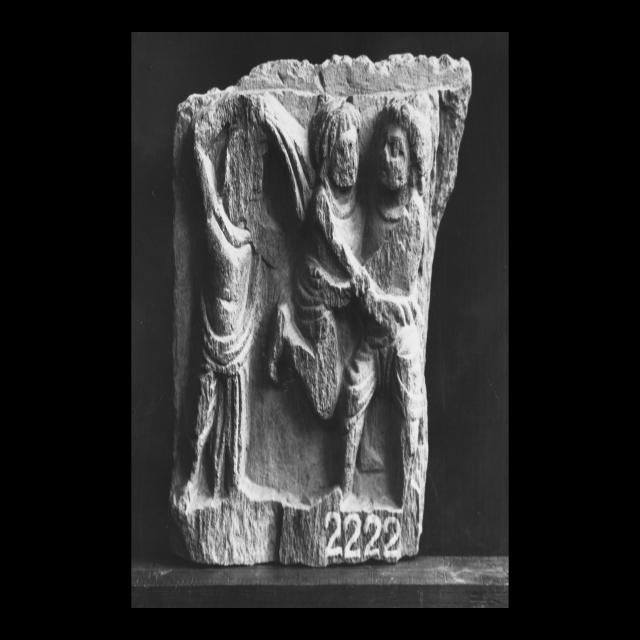buddha-wrestling: (270, 89, 470, 548)
